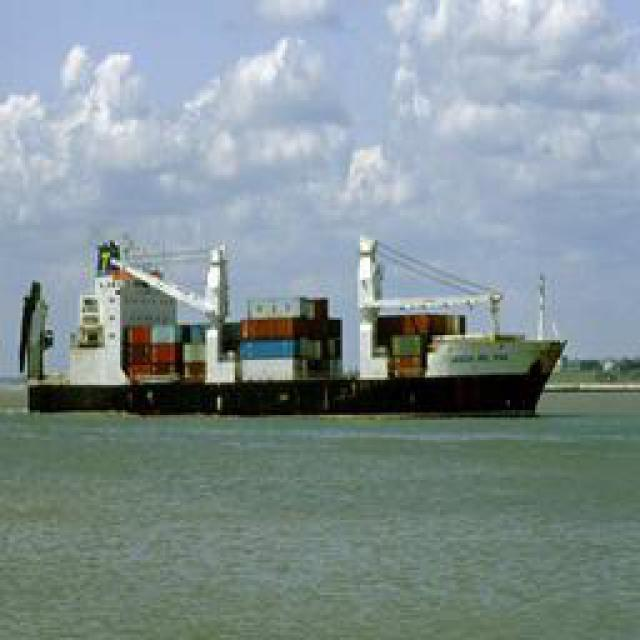Ship: (21, 231, 566, 421)
